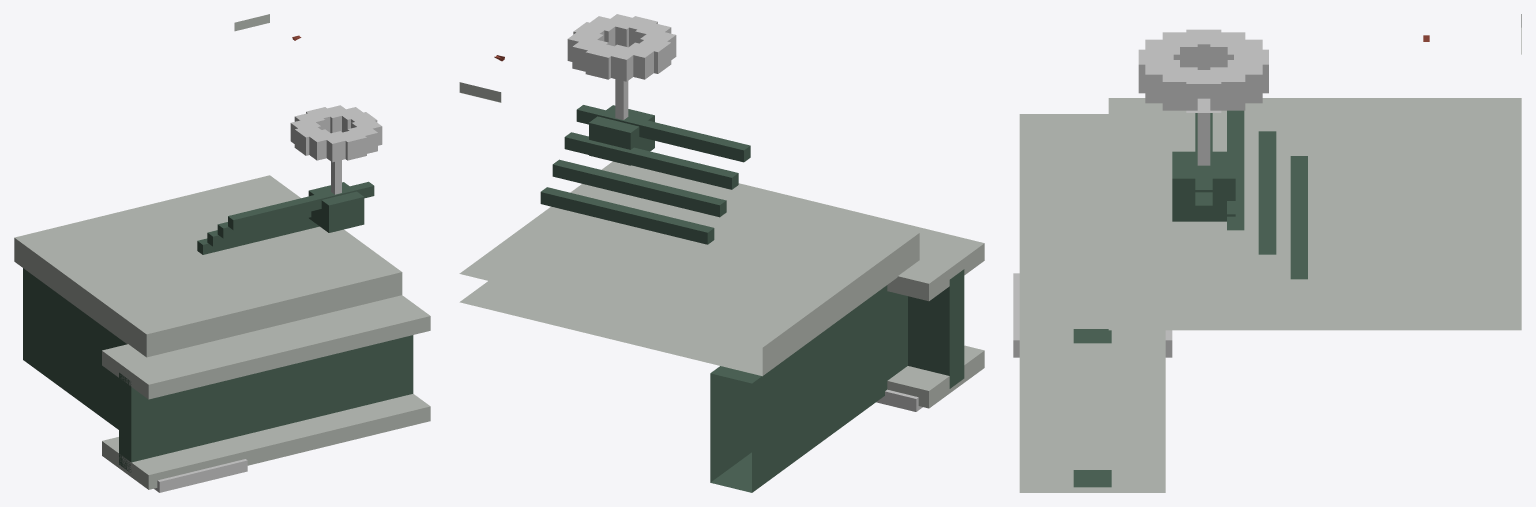
File: cell_8.obj
3 views of the same model, side by side, from view 1: azimuth 30°, elevation 25°; view 2: azimuth 150°, elevation 25°; view 3: azimuth 270°, elevation 25° (orthographic). The views are drawn at different scales.
Size of the model in its own units: 1 by 0.9937 by 1.
